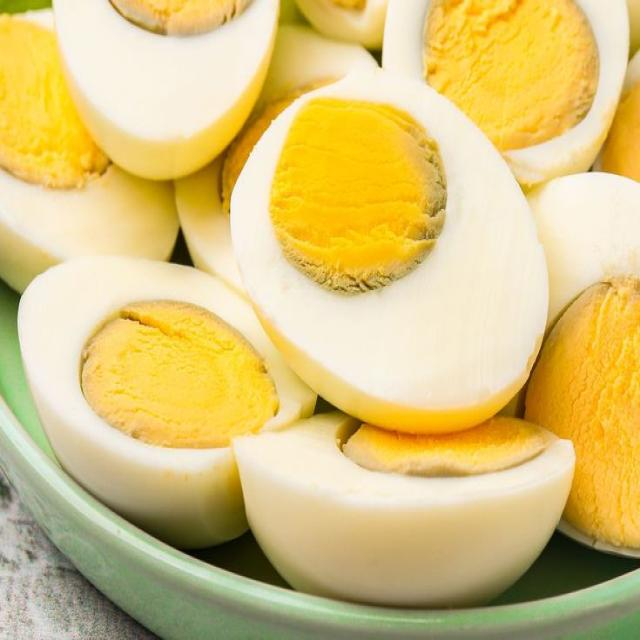eggs: (15, 0, 640, 596)
